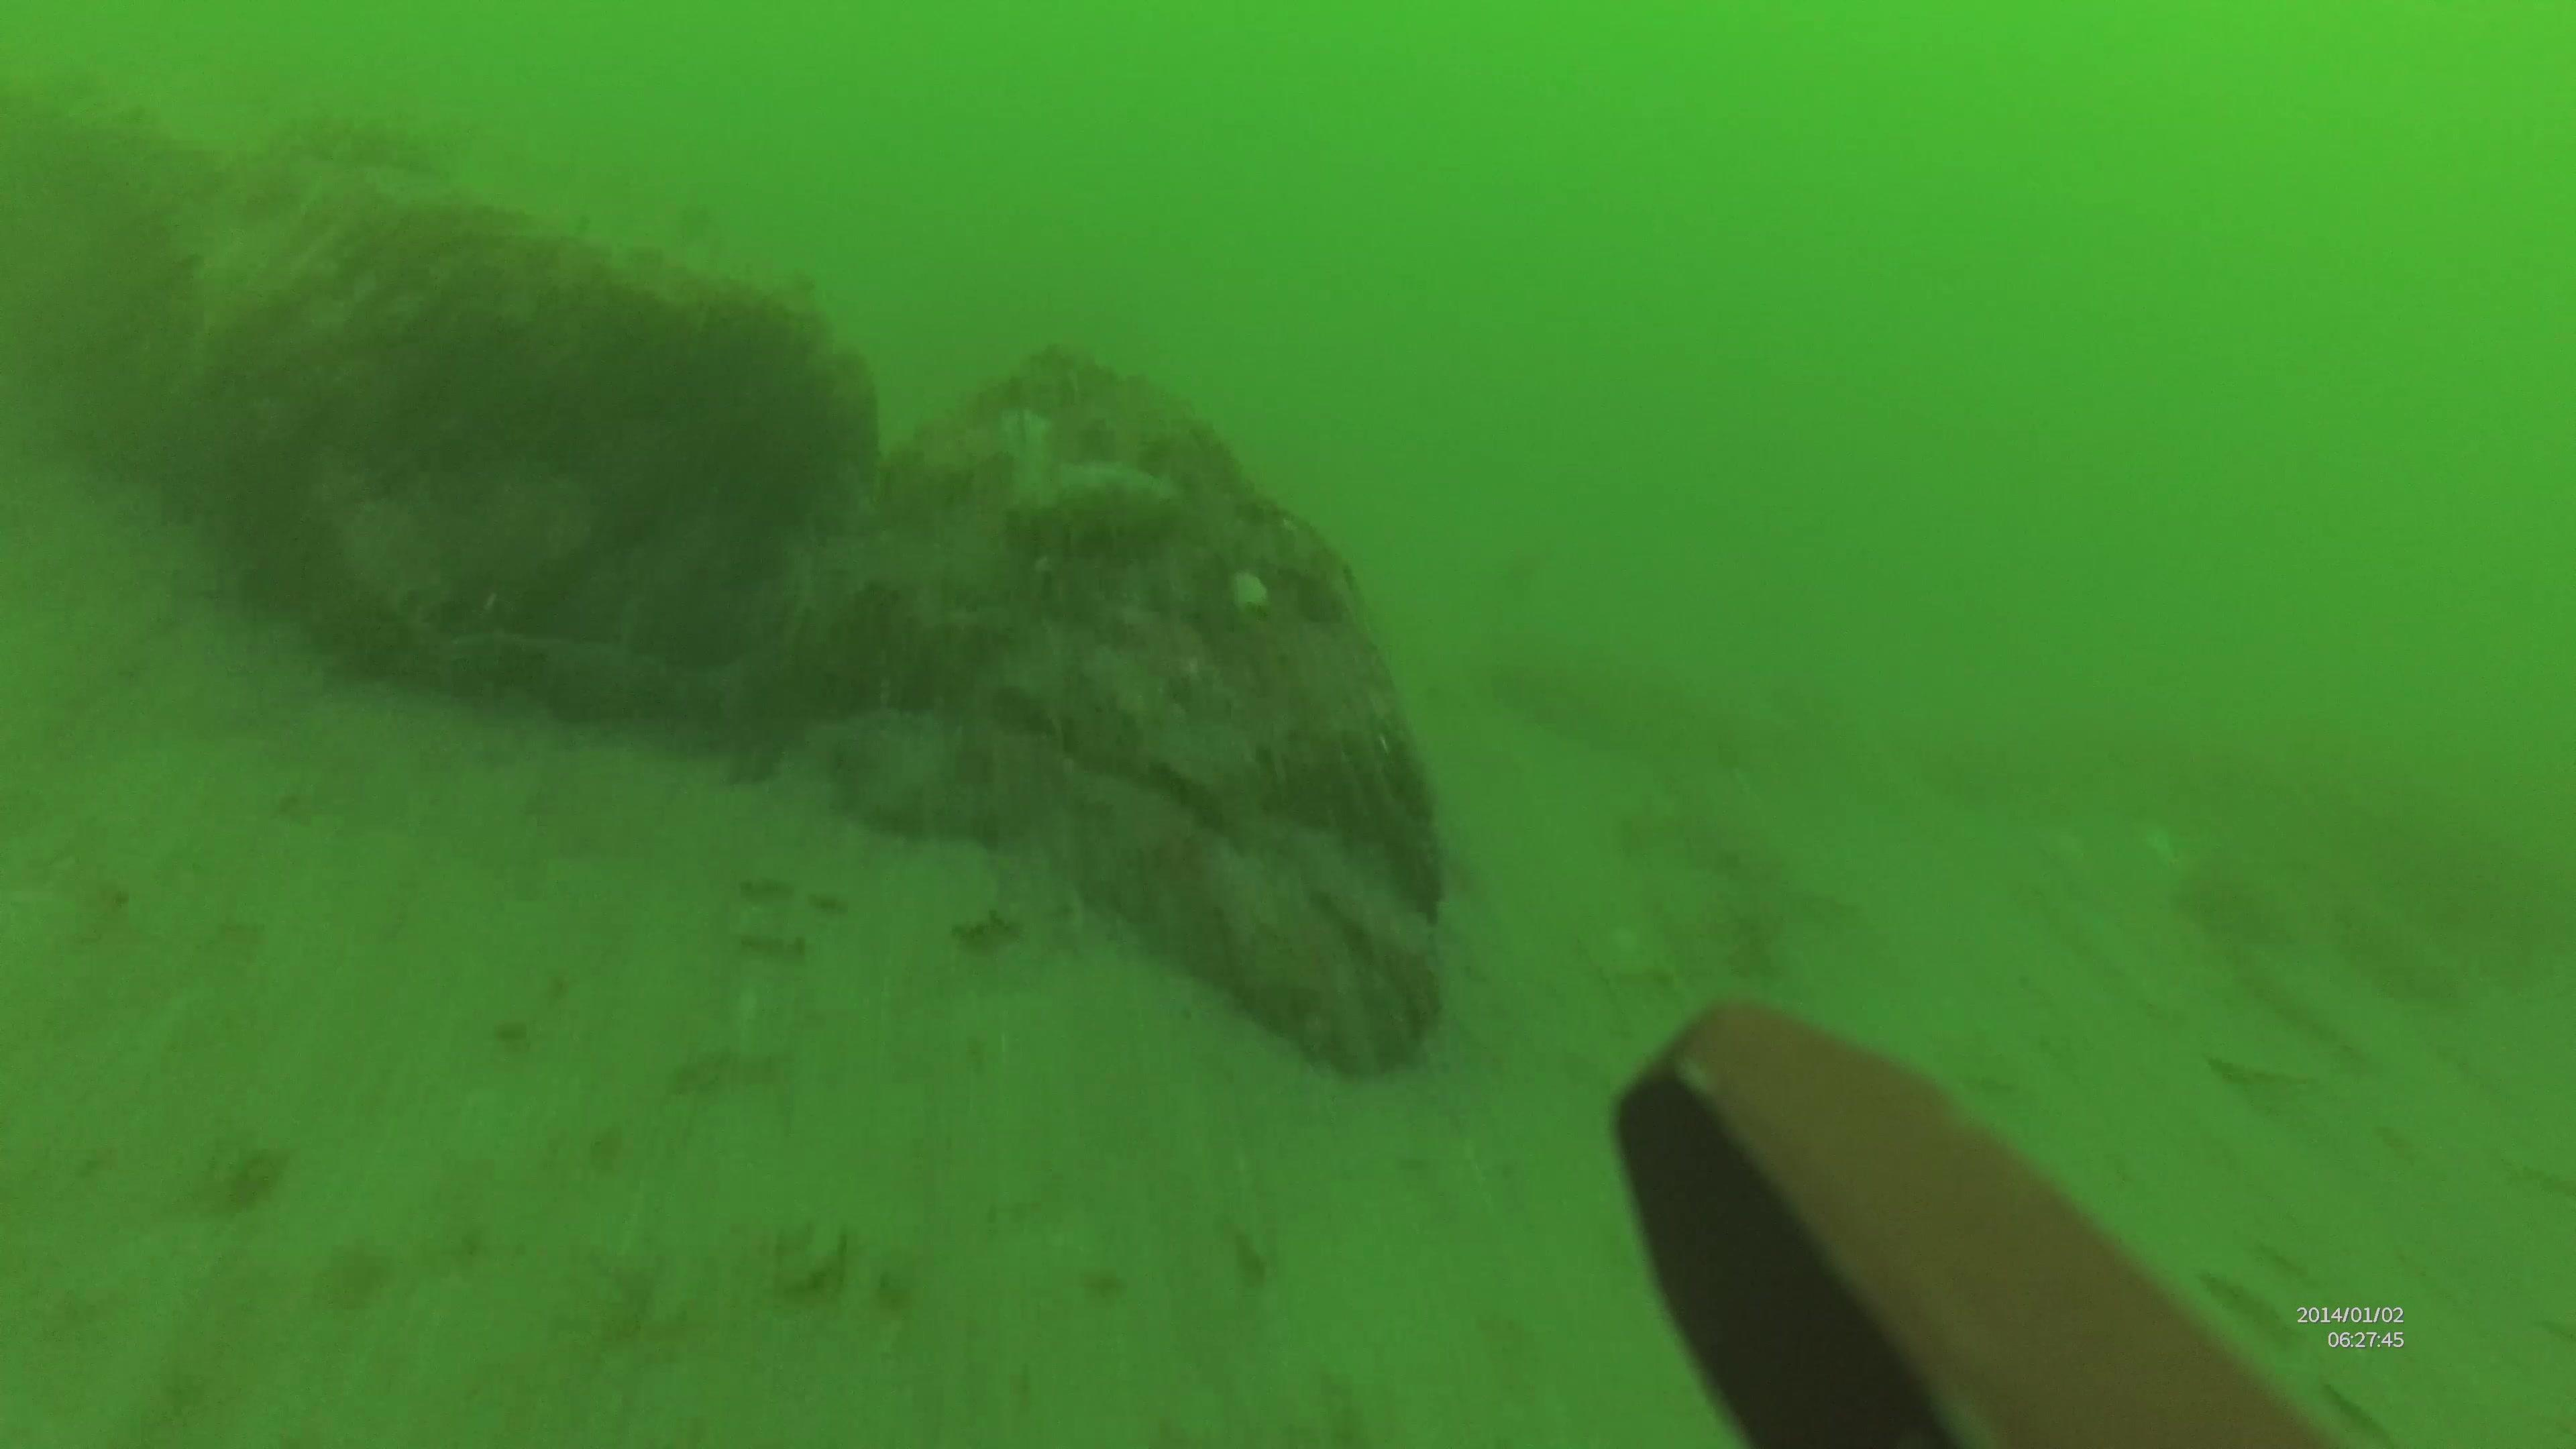holothurian: (1012, 448, 1194, 556)
